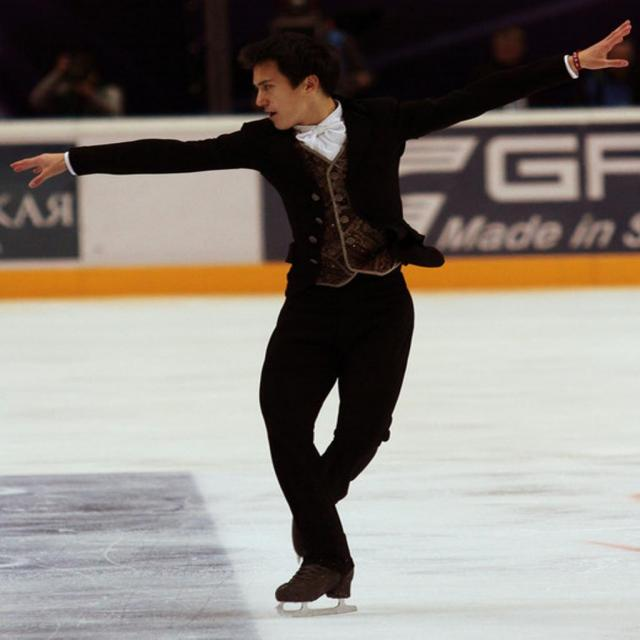nomask: (253, 59, 308, 128)
